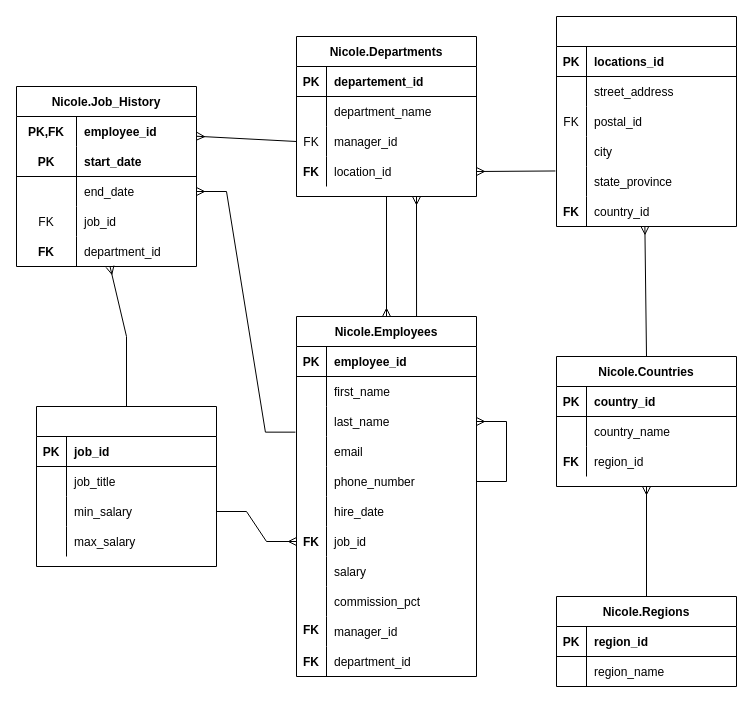
This 753x703 diagram has some shape labels left out. The box of each missing label's shape, as (x1, y1, x2, y2) in pixels:
Nicole.Jobs: (36, 406, 216, 566)
Nicole.Locations: (556, 16, 736, 226)
